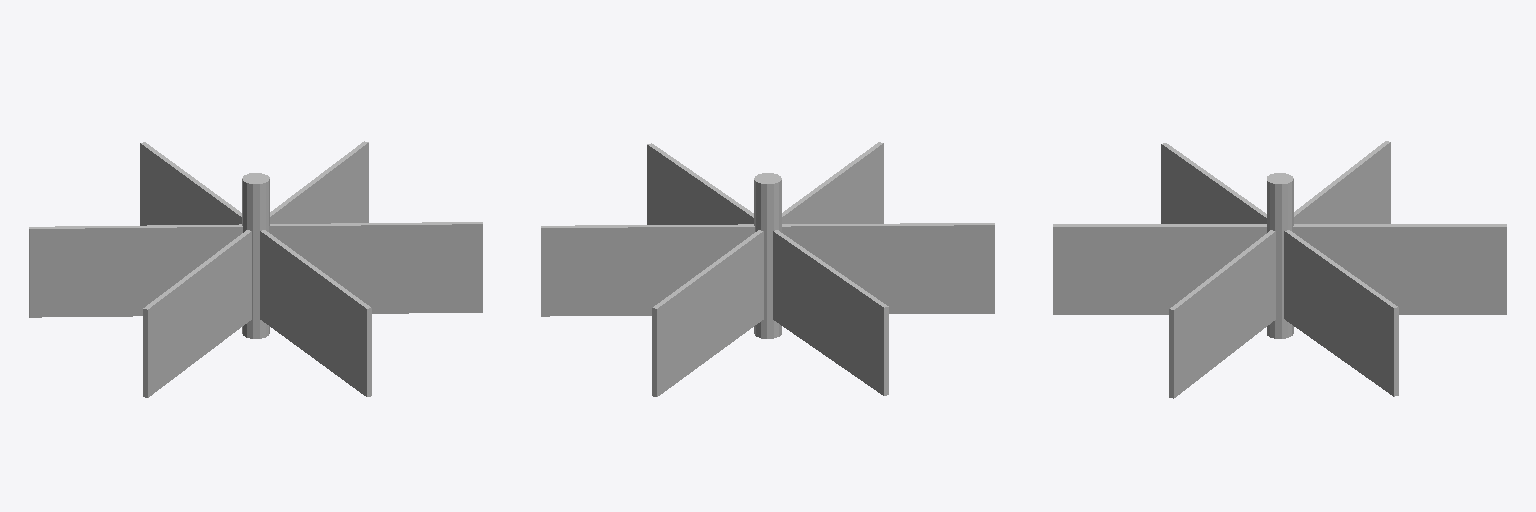
The model's file is vanta.obj.
3 renders of one model, left to right at view 1: azimuth 30°, elevation 25°; view 2: azimuth 150°, elevation 25°; view 3: azimuth 270°, elevation 25°, orthographic.
Visible parts, largest first — view 1: vanta; view 2: vanta; view 3: vanta.
Part boxes in pixels (x1,y1,x2,y2): vanta: (29, 141, 482, 397); vanta: (541, 142, 994, 396); vanta: (1053, 141, 1506, 398).
Bounding box in the file's own units: 1.51 × 0.6441 × 1.71.